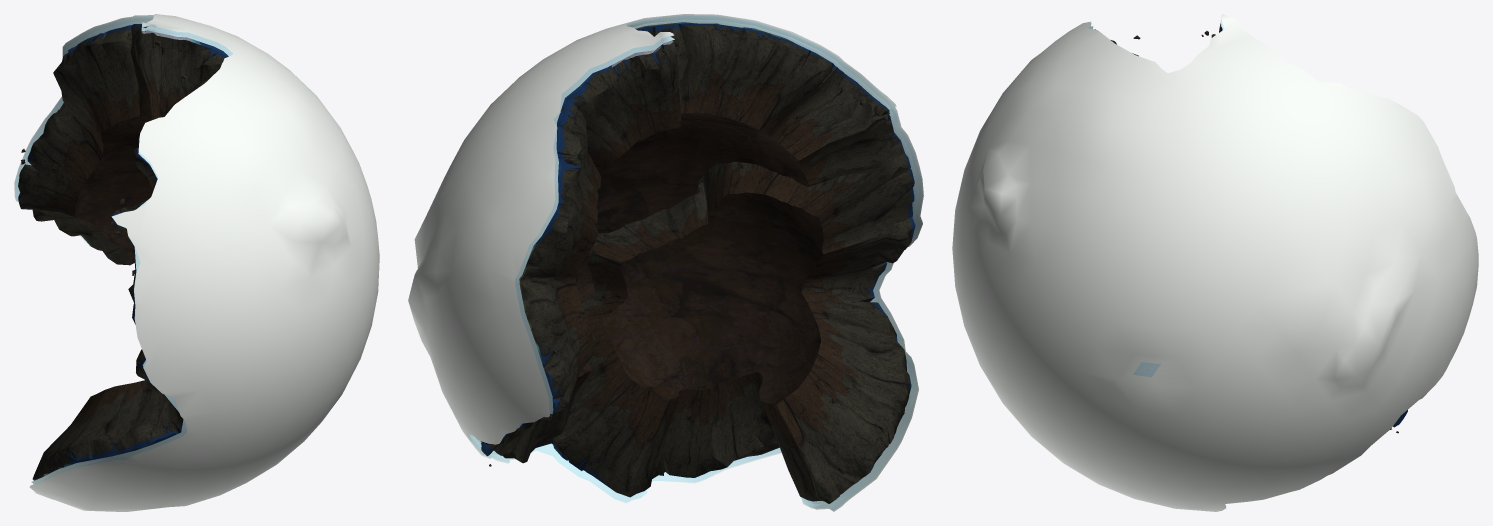
File: Union 2.fbx
3 views of the same model, side by side, from view 1: azimuth 30°, elevation 25°; view 2: azimuth 150°, elevation 25°; view 3: azimuth 270°, elevation 25° (orthographic). The views are drawn at different scales.
Visible parts, largest first — view 1: Union_2; view 2: Union_2; view 3: Union_2.
Boxes of the visible parts, box(x1,y1,x2,y2) form: Union_2: box(14, 14, 379, 511); Union_2: box(408, 14, 923, 511); Union_2: box(952, 14, 1478, 511).
Bounding box in the file's own units: 8471 × 10196 × 10328.
